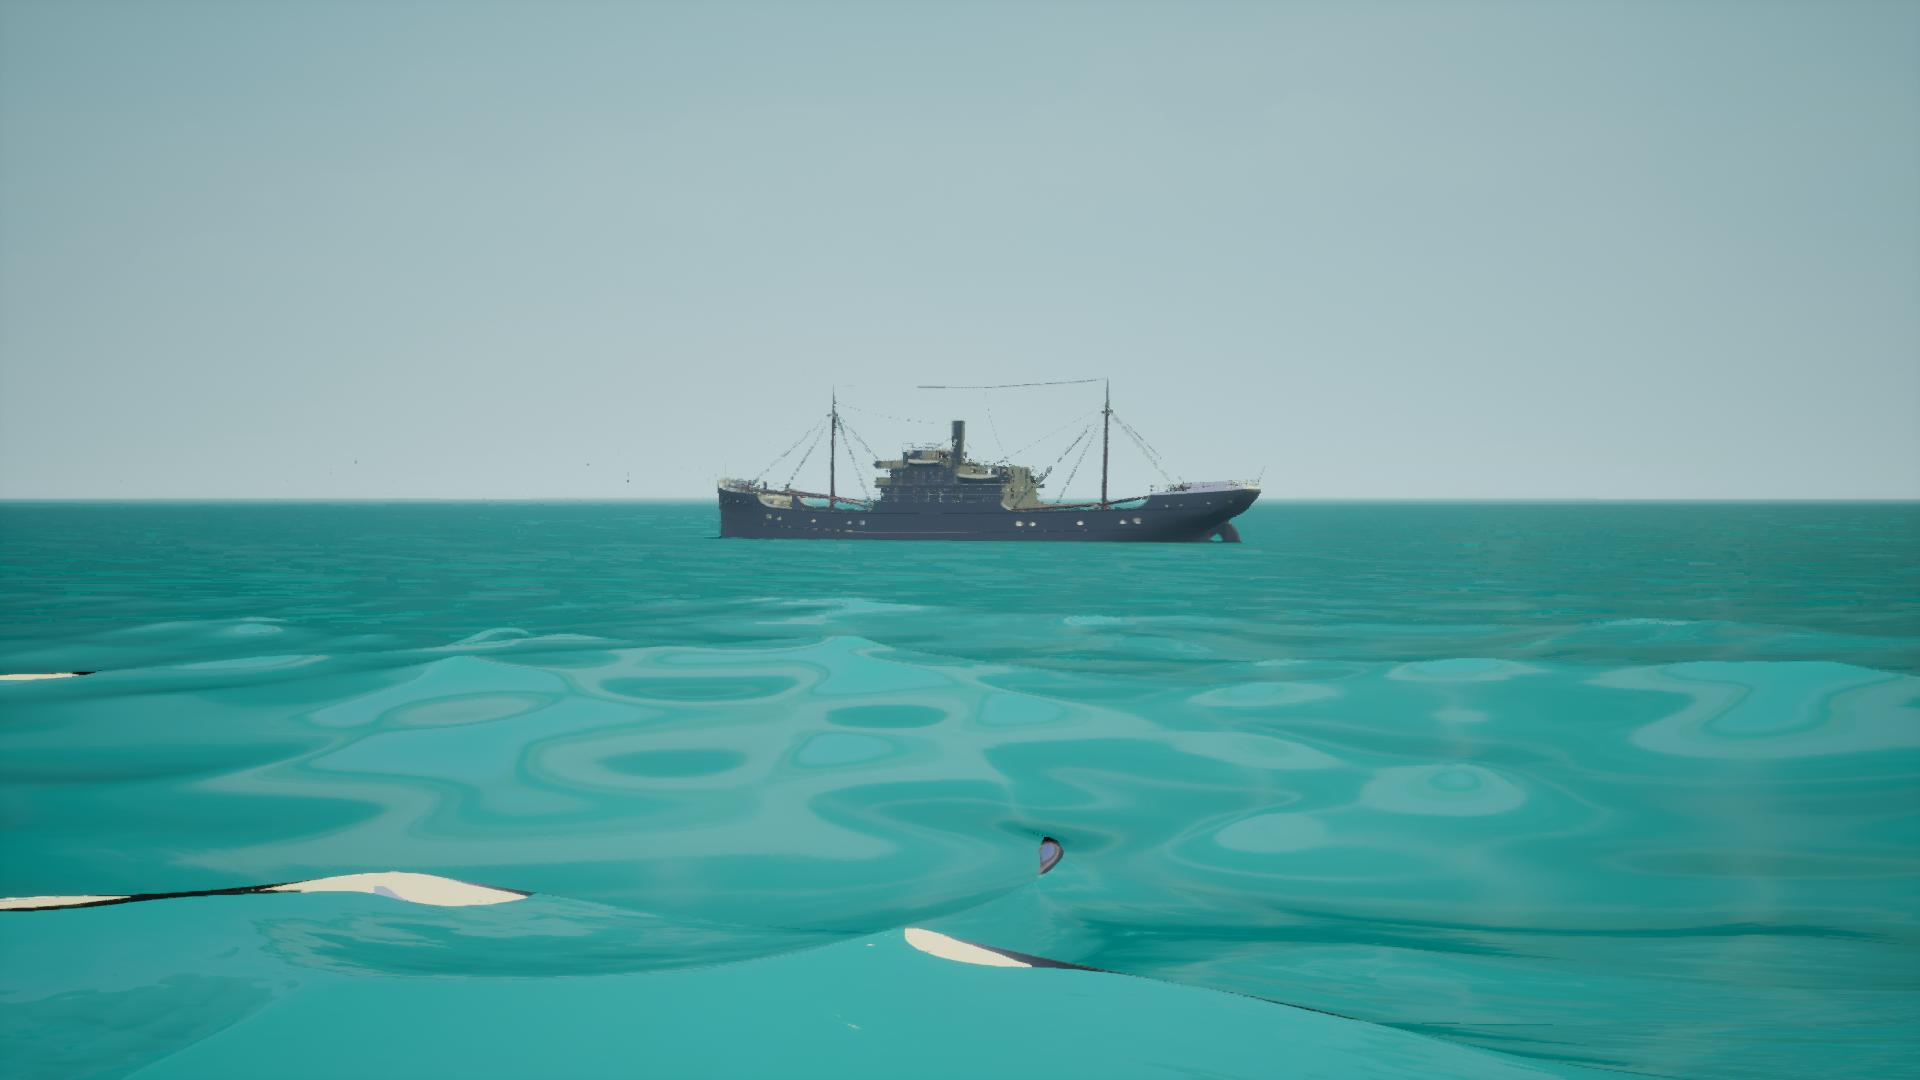Fishing Boat: (711, 381, 1261, 545)
